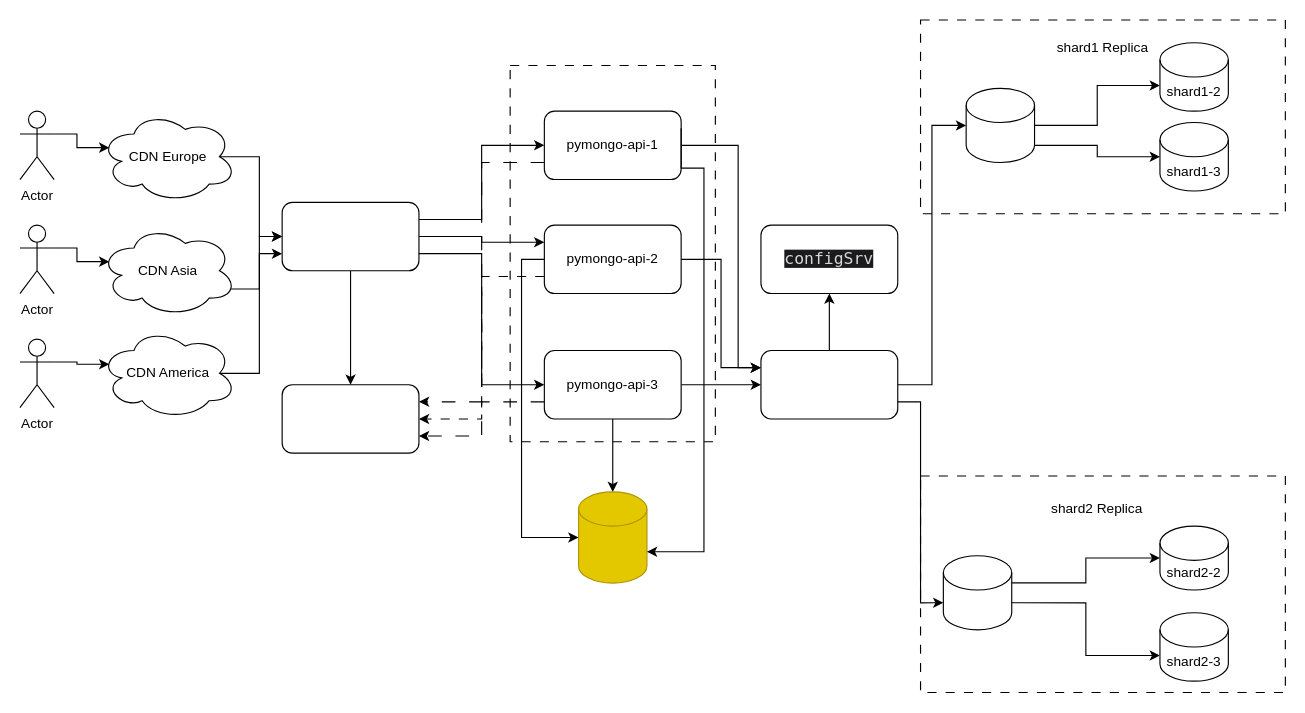
This 1305x713 diagram has some shape labels left out. Each missing label, with the centre of its shape:
"Api Gateway" belongs at [350,236].
"Consul" belongs at [350,418].
"redis" belongs at [612,537].
"router" belongs at [829,384].
"shard1-1" belongs at [1000,124].
"shard2-1" belongs at [977,592].
